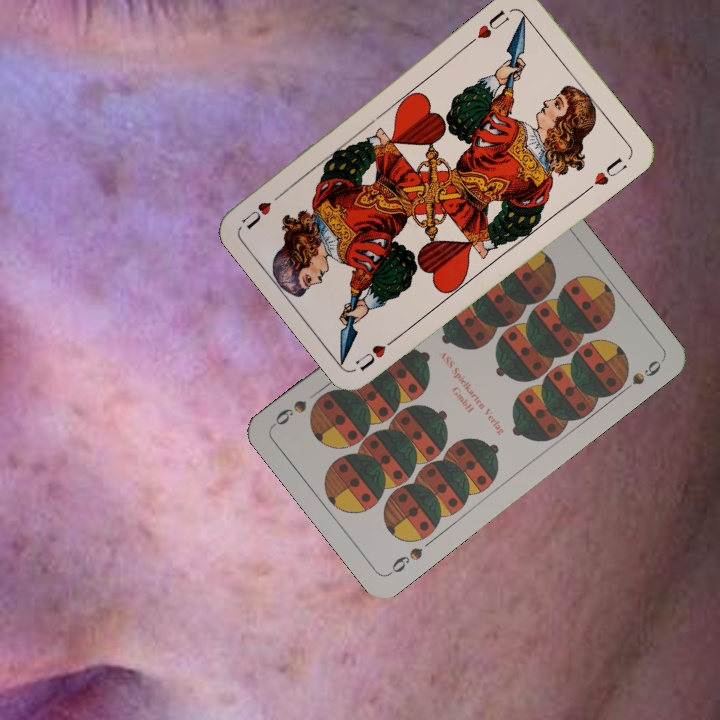HU: (351, 331, 403, 374), (465, 5, 512, 47)
S9: (384, 543, 426, 578)
